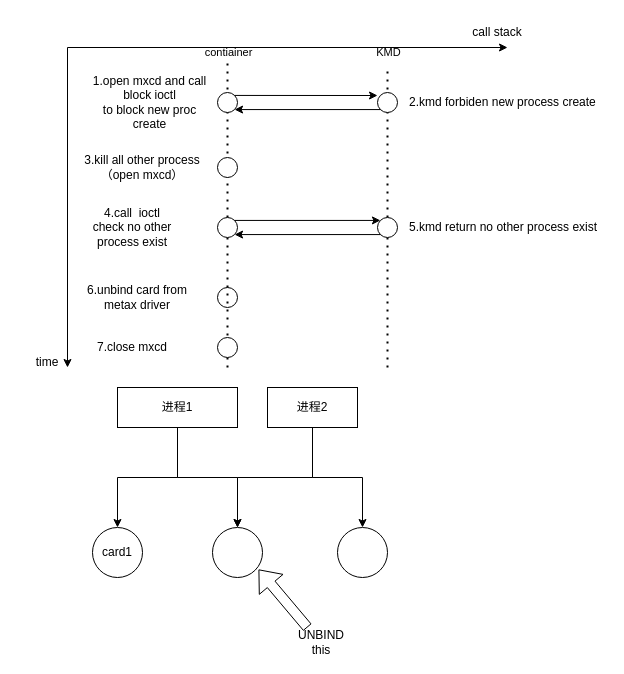
This 624x674 diagram has some shape labels left out. The shapes that lost their labels are listed below. From the top down, each one's centre as x and y in pixels, then its label:
At (x=237, y=552): "card2".
At (x=362, y=552): "card3".
